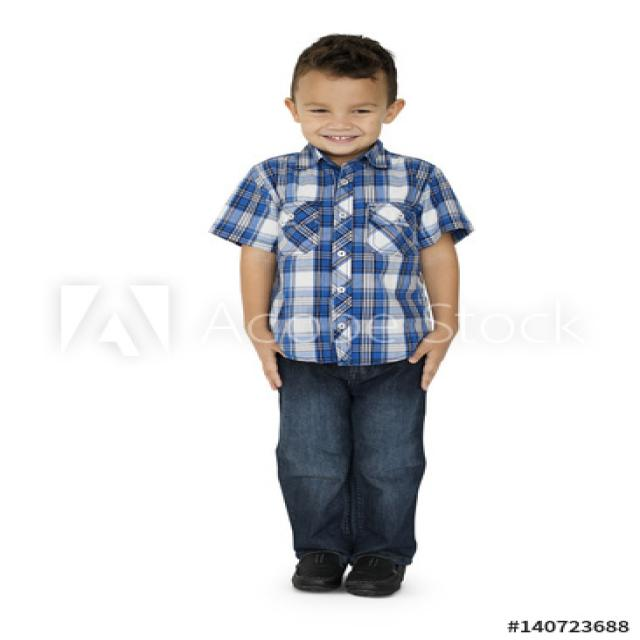child: (210, 26, 472, 613)
